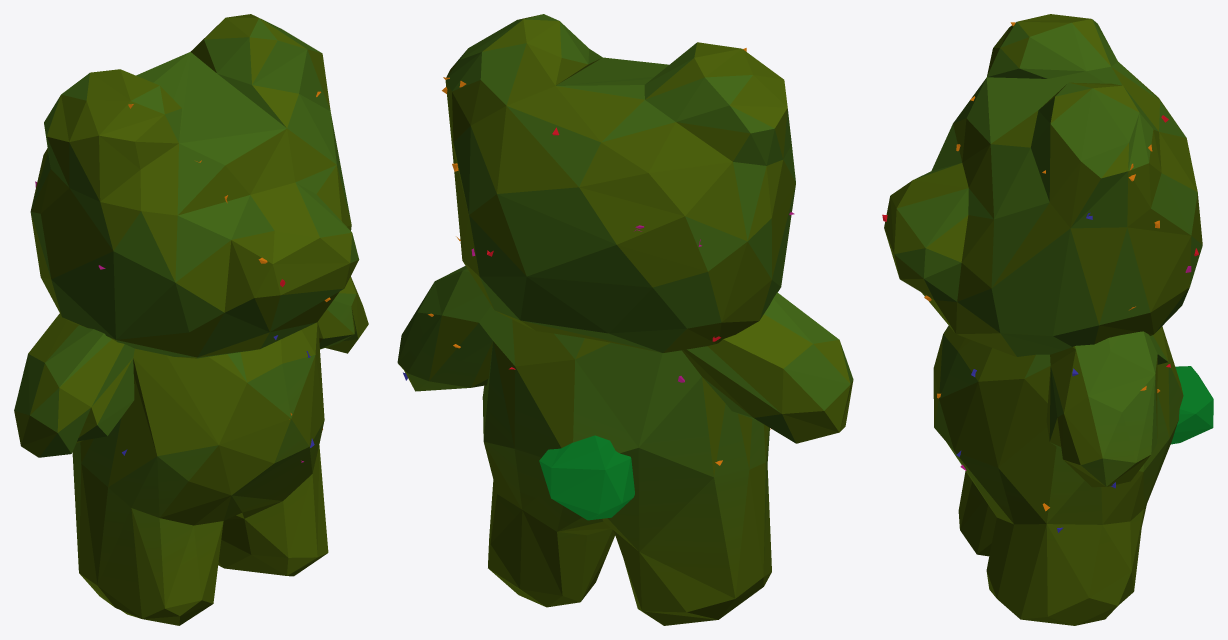
File: HWN20_BearBush.glb
3 views of the same model, side by side, from view 1: azimuth 30°, elevation 25°; view 2: azimuth 150°, elevation 25°; view 3: azimuth 270°, elevation 25° (orthographic). The views are drawn at different scales.
Visible parts, largest first — view 1: HWN20_BearBush; view 2: HWN20_BearBush; view 3: HWN20_BearBush.
Part boxes in pixels (bbox=[...]): HWN20_BearBush: bbox=[14, 14, 368, 625]; HWN20_BearBush: bbox=[397, 14, 853, 625]; HWN20_BearBush: bbox=[882, 14, 1213, 625].
Bounding box in the file's own units: 6.07 × 8.29 × 4.64.
Materials: 2 (2 with a texture image).
